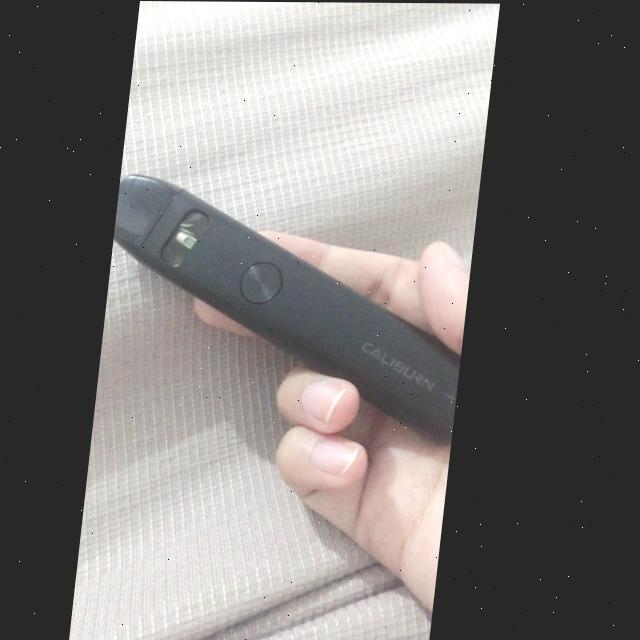vape: (102, 167, 485, 442)
